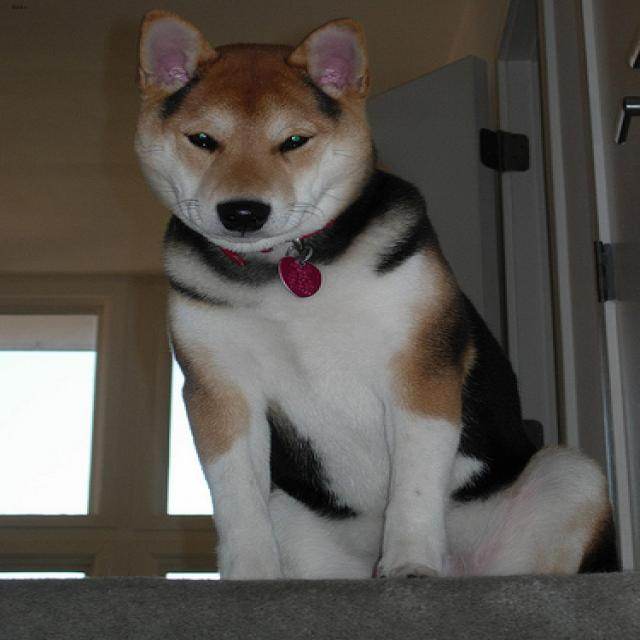dog-shiba_inu: (121, 1, 621, 595)
